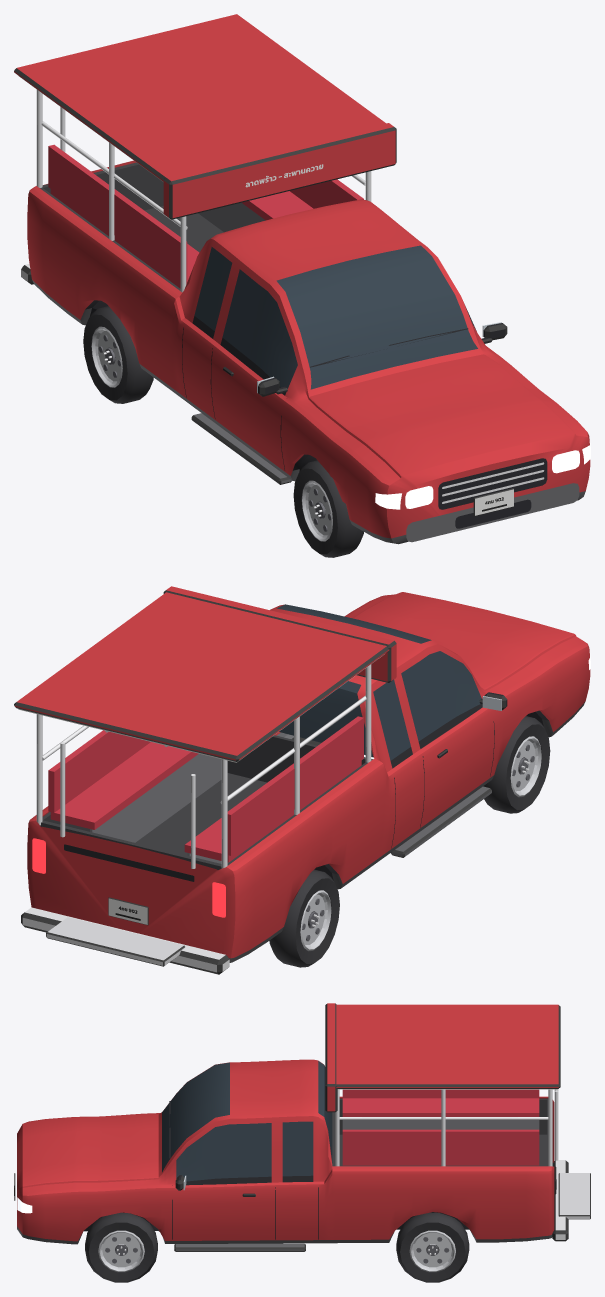
The model's file is SM_Car_Songthaew.fbx.
3 renders of one model, top to bottom at view 1: azimuth 30°, elevation 25°; view 2: azimuth 150°, elevation 25°; view 3: azimuth 270°, elevation 25°, orthographic. The views are drawn at different scales.
Visible parts, largest first — view 1: Body.007, Wheel_RR.005, Wheel_FR.003; view 2: Body.007, Wheel_RR.005, Wheel_FR.003; view 3: Body.007, Wheel_RL.005, Wheel_FL.003.
Part boxes in pixels (bbox=[...]): Body.007: bbox=[14, 14, 590, 544]; Wheel_RR.005: bbox=[83, 306, 153, 403]; Wheel_FR.003: bbox=[293, 460, 363, 557]; Body.007: bbox=[14, 586, 590, 974]; Wheel_RR.005: bbox=[269, 869, 339, 967]; Wheel_FR.003: bbox=[483, 716, 550, 813]; Body.007: bbox=[14, 1003, 590, 1251]; Wheel_RL.005: bbox=[396, 1212, 469, 1282]; Wheel_FL.003: bbox=[85, 1212, 157, 1282].
Bounding box in the file's own units: 2.09 × 2.2 × 5.69.
